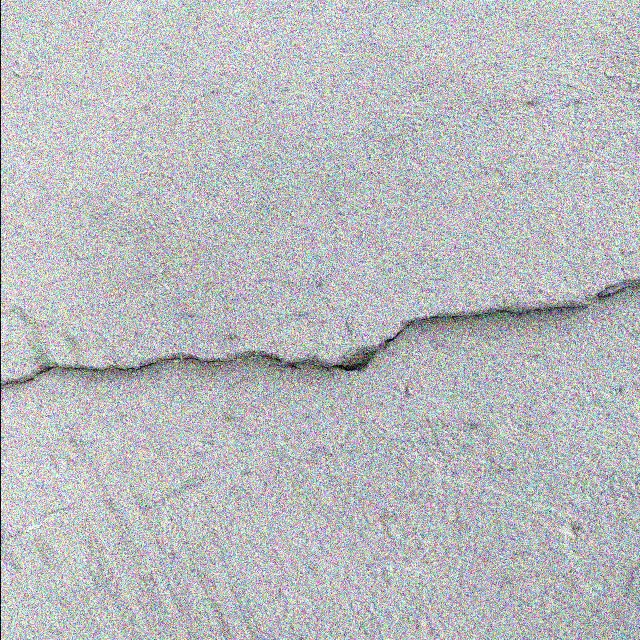SurfaceCrack: (0, 256, 639, 434)
